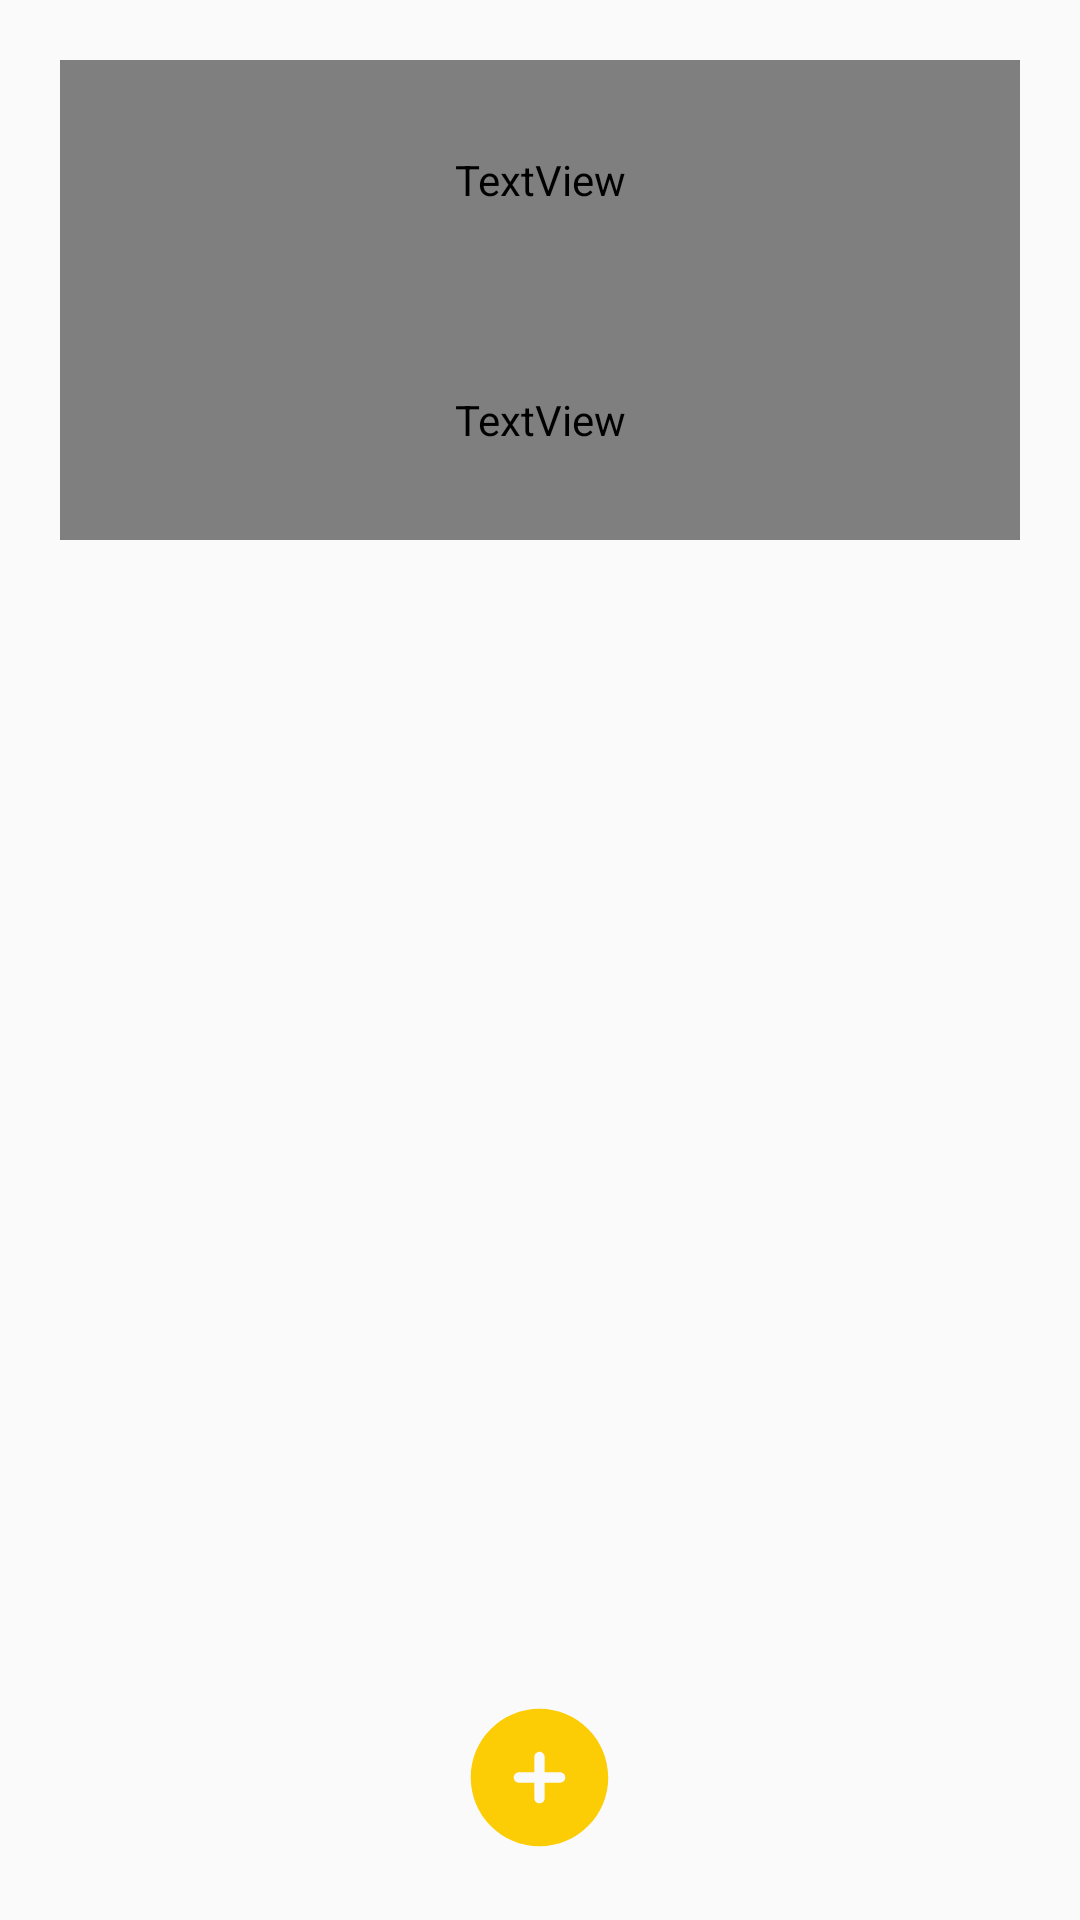

Screen size 1080px×1920px. Icon name, then its box in pixels as (x1, y1, x2, y2):
add: (470, 1708, 609, 1847)
